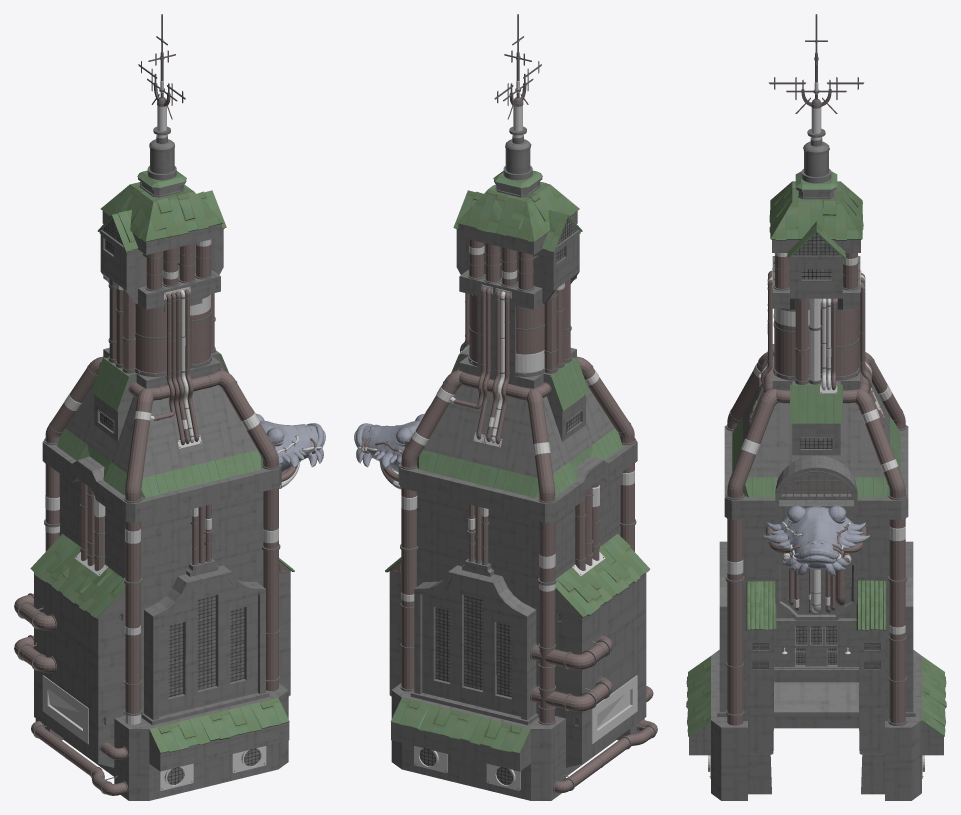
Rendered from MainTower_Ac.fbx.
The picture shows the model from 3 angles, left to right: view 1: azimuth 30°, elevation 25°; view 2: azimuth 150°, elevation 25°; view 3: azimuth 270°, elevation 25°; orthographic projection.
Parts seen in each view (by area): view 1: SM_ENV_AMVLLG02_AreaA_MainTower_Ac.mo; view 2: SM_ENV_AMVLLG02_AreaA_MainTower_Ac.mo; view 3: SM_ENV_AMVLLG02_AreaA_MainTower_Ac.mo.
Part boxes in pixels (x1=…): SM_ENV_AMVLLG02_AreaA_MainTower_Ac.mo: x1=14, y1=14, x2=325, y2=800; SM_ENV_AMVLLG02_AreaA_MainTower_Ac.mo: x1=354, y1=14, x2=657, y2=800; SM_ENV_AMVLLG02_AreaA_MainTower_Ac.mo: x1=686, y1=14, x2=946, y2=800.
Size of the model in its own units: 4252 by 10912 by 3451.
